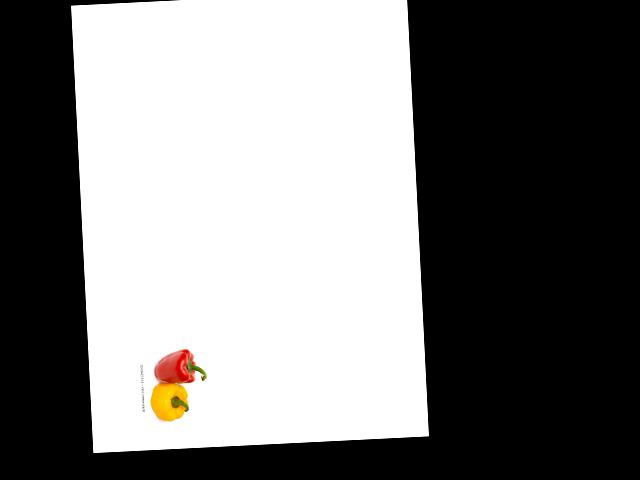bell_pepper: (146, 380, 192, 424)
